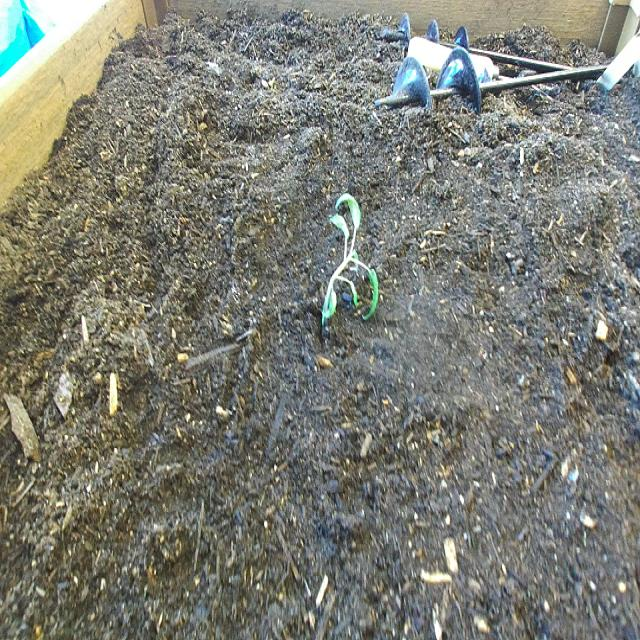Healthy: (311, 179, 392, 358)
